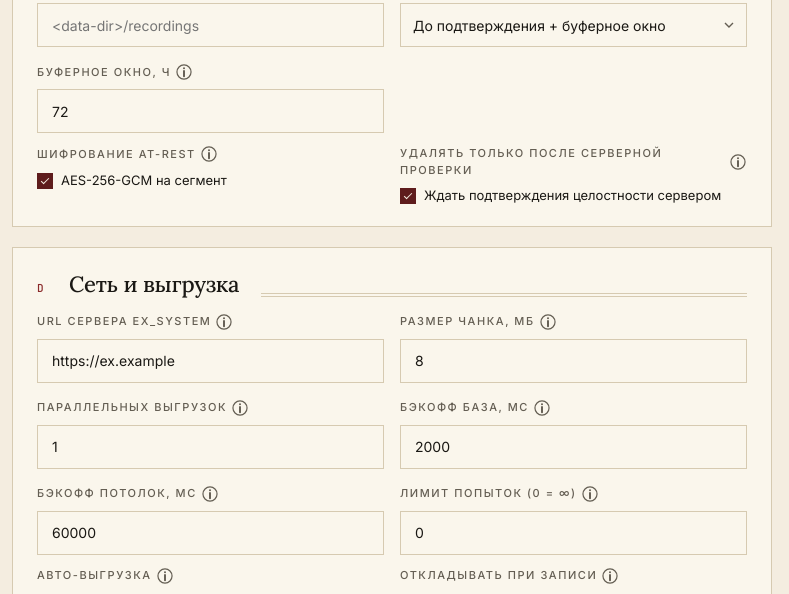
Scenario: AdministrationScreen › валидирует обязательный URL сервера при авто-выгрузке (после разблокировки)
The image size is (789, 594).
(page scrolled)
Clear the field labelled "URL сервера ex_system" at (210, 360), box x1=38 y1=340 x2=383 y2=382
(page scrolled)
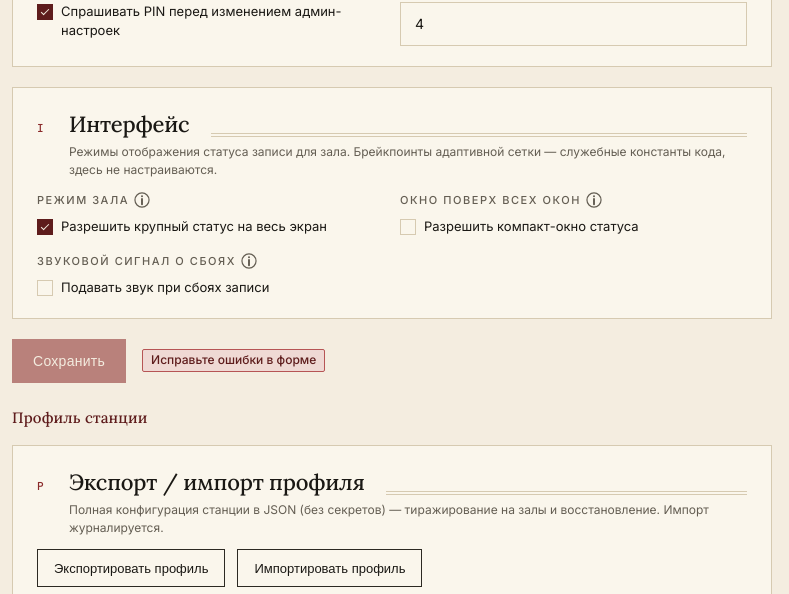
Now the button "Сохранить" is disabled, box x1=12 y1=339 x2=126 y2=383
